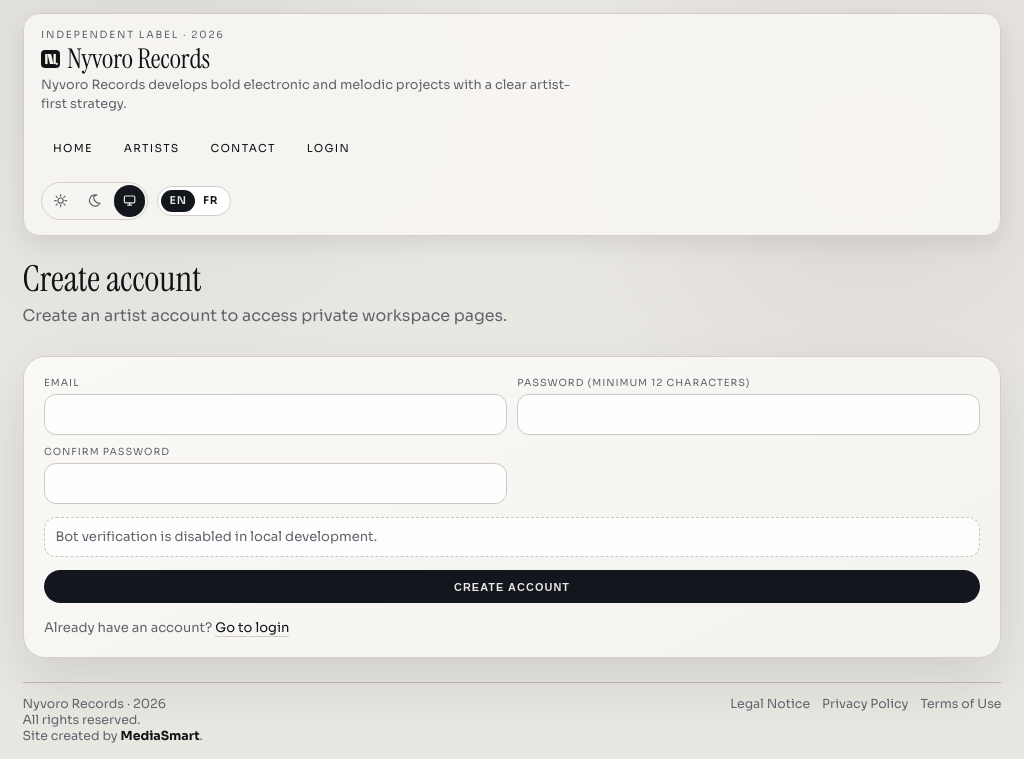
Test: register page › submits artist-only registration and hides admin account selection
Type "new-artist@example.com" into the field labelled "Email". click: (275, 415)
box: [44, 394, 507, 435]
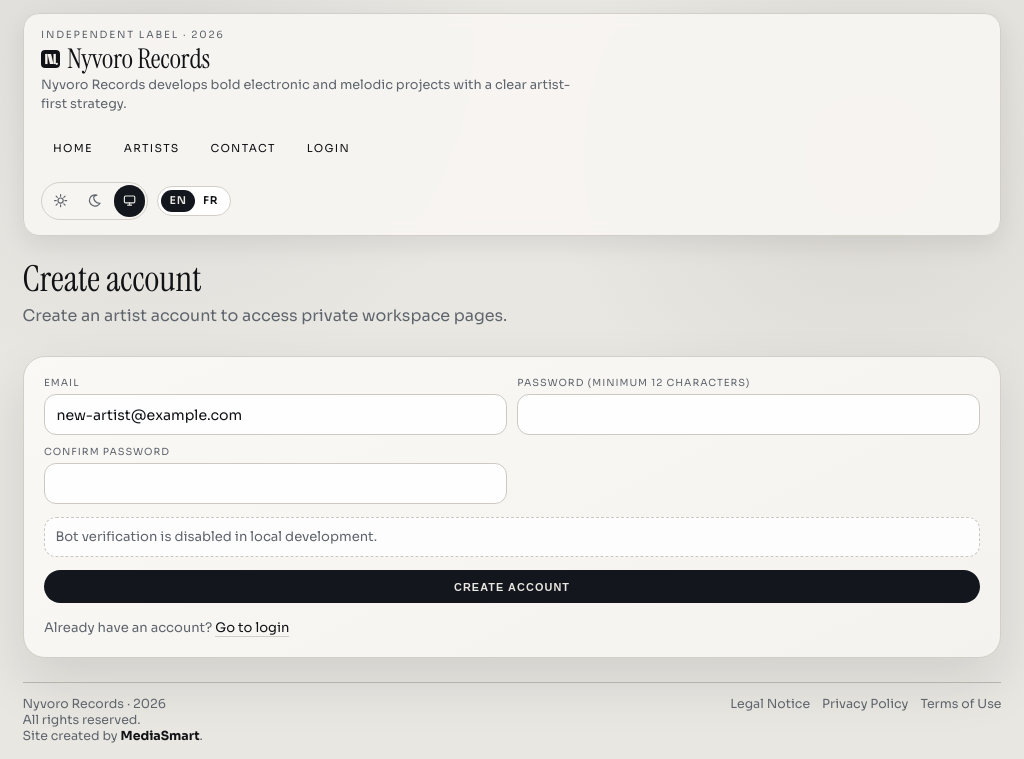
Type "NewArtistStrongPass!2026" into the password field labelled "Password (minimum 12 characters)". click: (749, 415)
box: [517, 394, 980, 435]
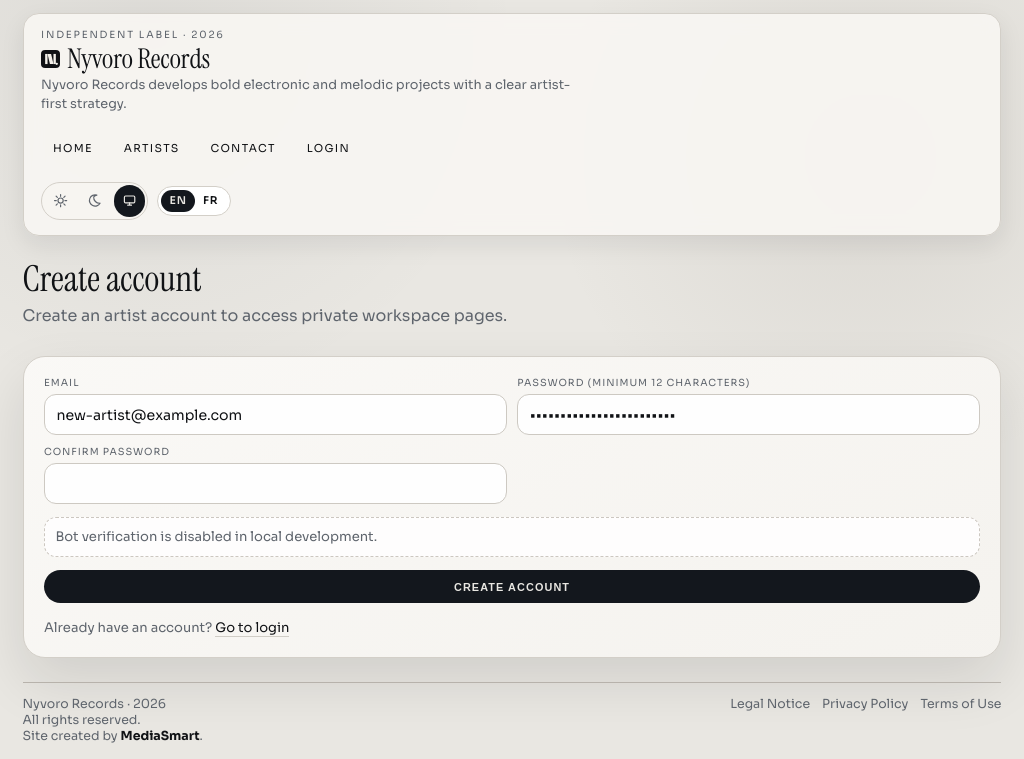
Type "NewArtistStrongPass!2026" into the password field labelled "Confirm password". click: (275, 483)
box: [44, 463, 507, 504]
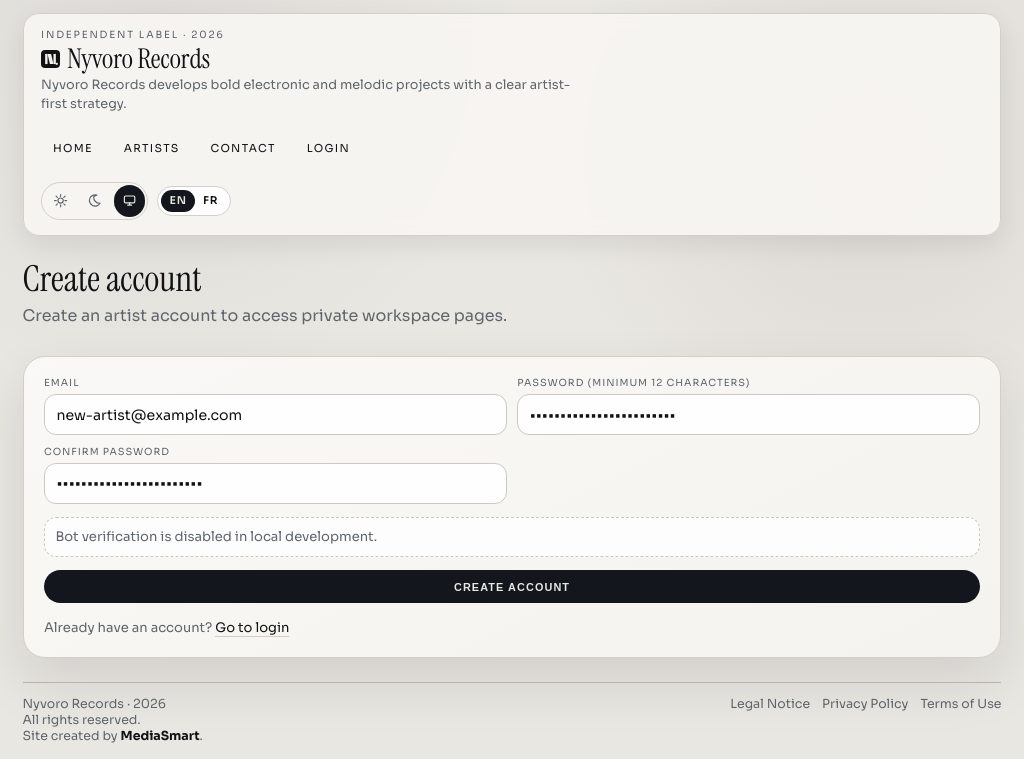
Click the button "Create account". click: (512, 587)
box: [44, 570, 980, 603]
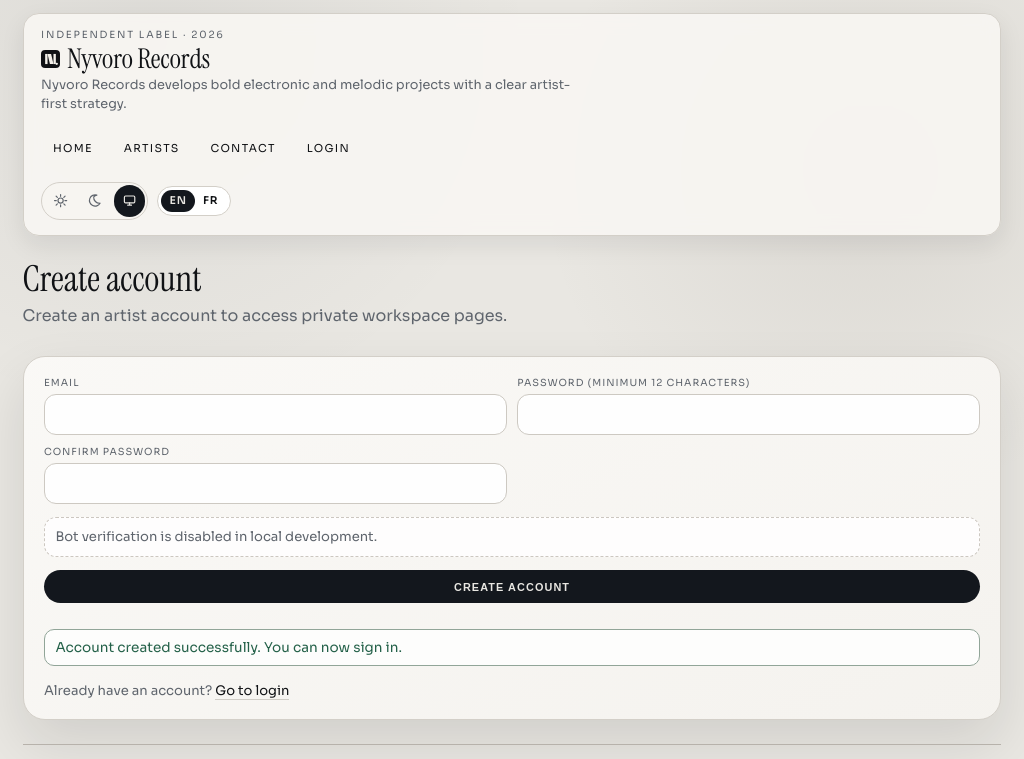
expect the text "Account created successfully. You can now sign in." is shown: met, box [44, 629, 980, 666]
